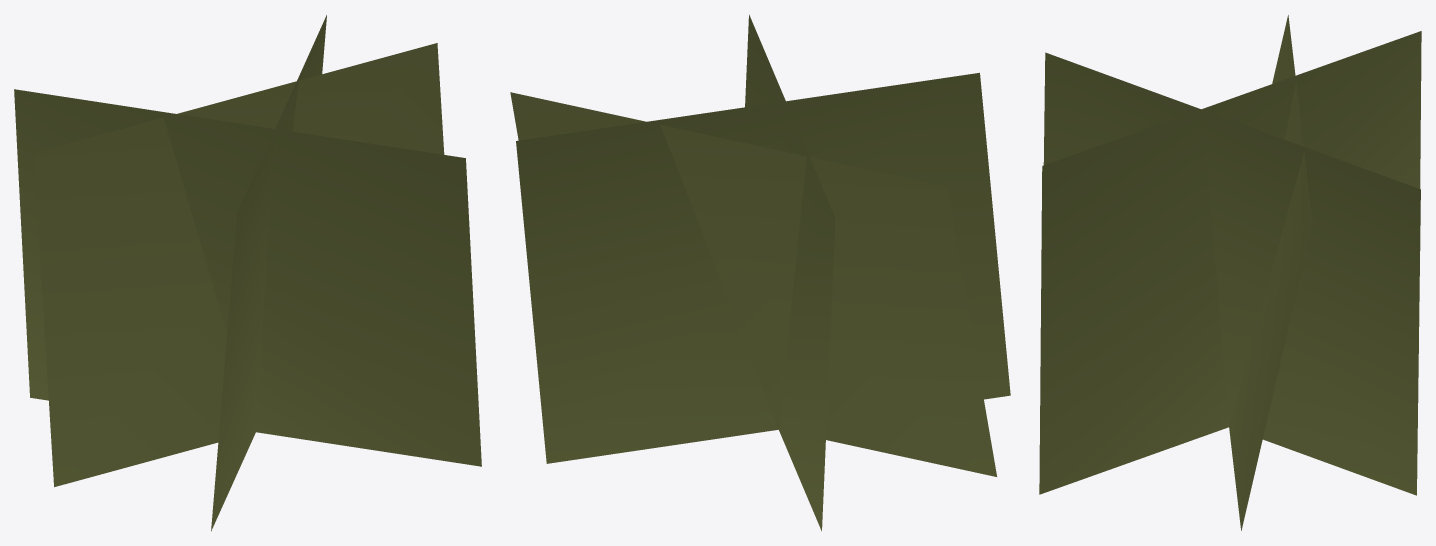
File: veg.grass.glb
The picture shows the model from 3 angles, left to right: view 1: azimuth 30°, elevation 25°; view 2: azimuth 150°, elevation 25°; view 3: azimuth 270°, elevation 25°; orthographic projection. The views are drawn at different scales.
Parts seen in each view (by area): view 1: LOD0; view 2: LOD0; view 3: LOD0.
Boxes of the visible parts, bbox=[...] form: LOD0: bbox=[14, 15, 481, 531]; LOD0: bbox=[510, 14, 1010, 531]; LOD0: bbox=[1039, 15, 1421, 530].
Size of the model in its own units: 0.6404 by 0.4431 by 0.4775.
